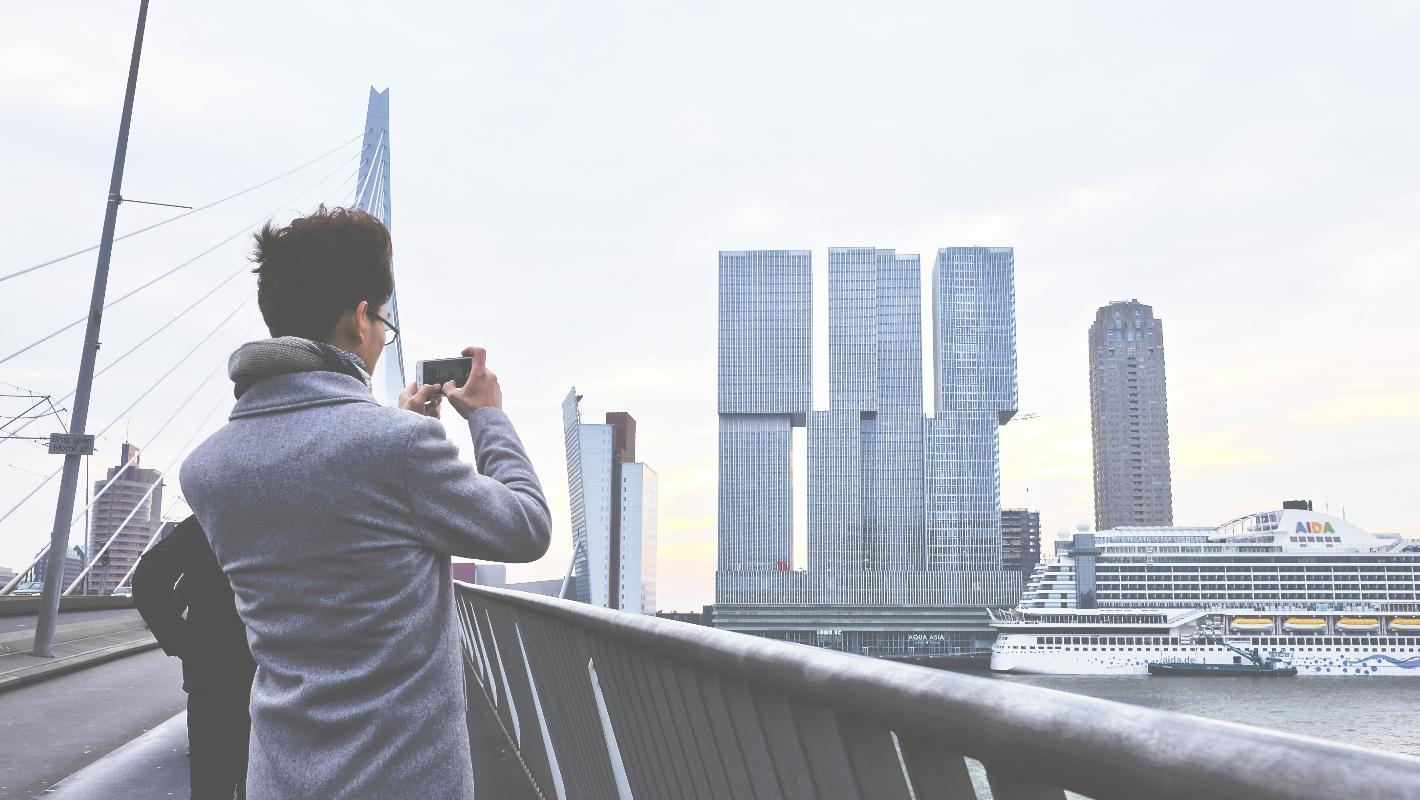Person: (180, 206, 564, 799)
